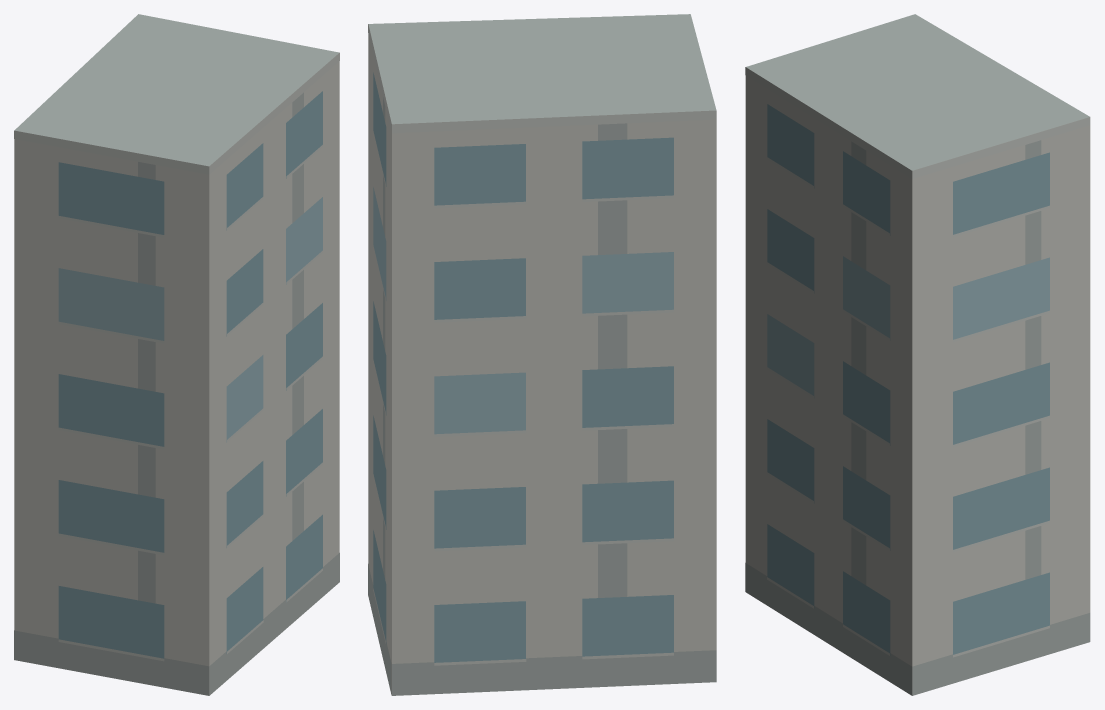
The model's file is residential-3b4cd8f9-684a-4dfe-8ca5-c48039bc5399.glb.
The picture shows the model from 3 angles, left to right: view 1: azimuth 30°, elevation 25°; view 2: azimuth 150°, elevation 25°; view 3: azimuth 270°, elevation 25°; orthographic projection. The views are drawn at different scales.
Parts seen in each view (by area): view 1: residential-3b4cd8f9-684a-4dfe-8ca5-c48039bc5399.tmp; view 2: residential-3b4cd8f9-684a-4dfe-8ca5-c48039bc5399.tmp; view 3: residential-3b4cd8f9-684a-4dfe-8ca5-c48039bc5399.tmp.
Part boxes in pixels (x1=…): residential-3b4cd8f9-684a-4dfe-8ca5-c48039bc5399.tmp: x1=14, y1=14, x2=339, y2=695; residential-3b4cd8f9-684a-4dfe-8ca5-c48039bc5399.tmp: x1=368, y1=14, x2=716, y2=695; residential-3b4cd8f9-684a-4dfe-8ca5-c48039bc5399.tmp: x1=745, y1=14, x2=1090, y2=695.
Size of the model in its own units: 9.78 by 15.25 by 9.08.
